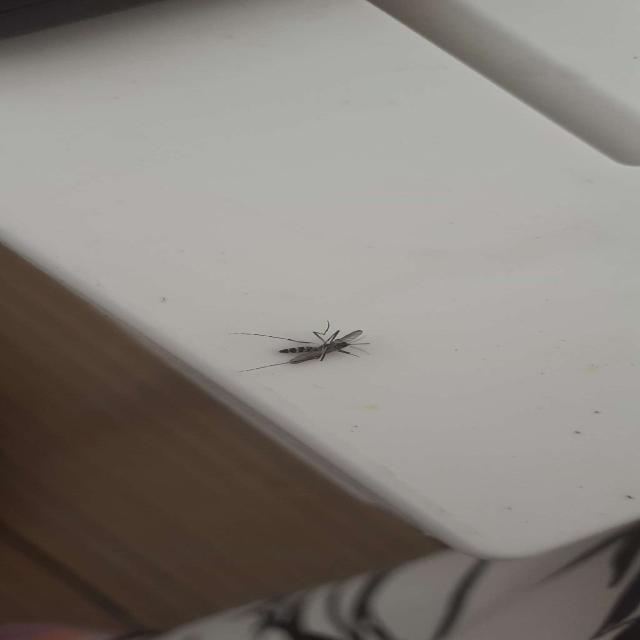albopictus: (227, 317, 376, 375)
